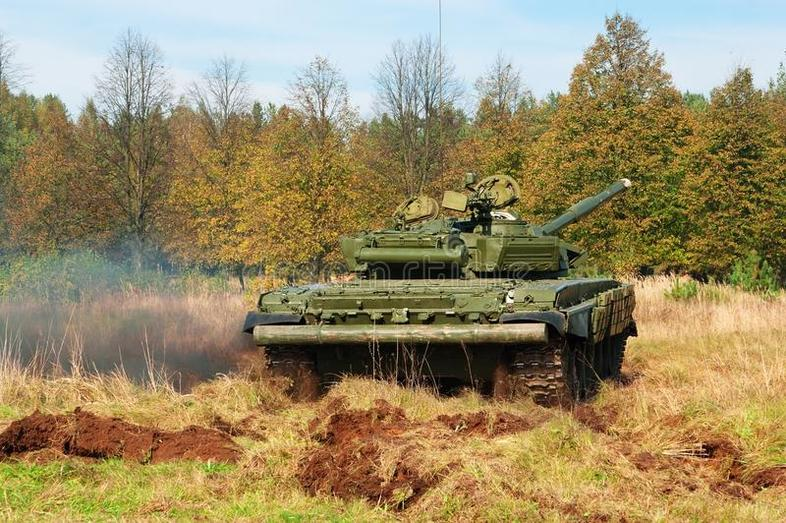t72: (254, 181, 646, 394)
